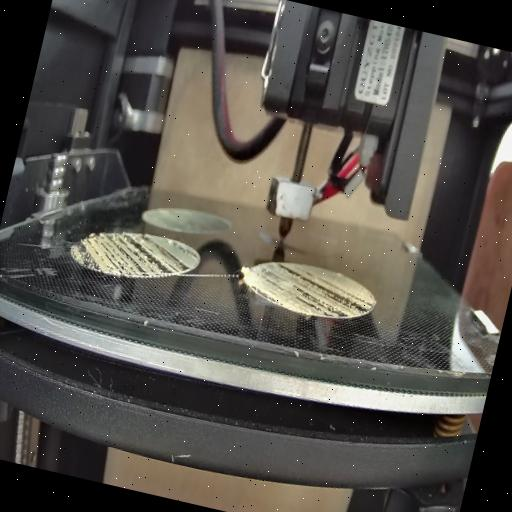under_extrusion: (72, 221, 200, 288), (252, 258, 379, 324)
